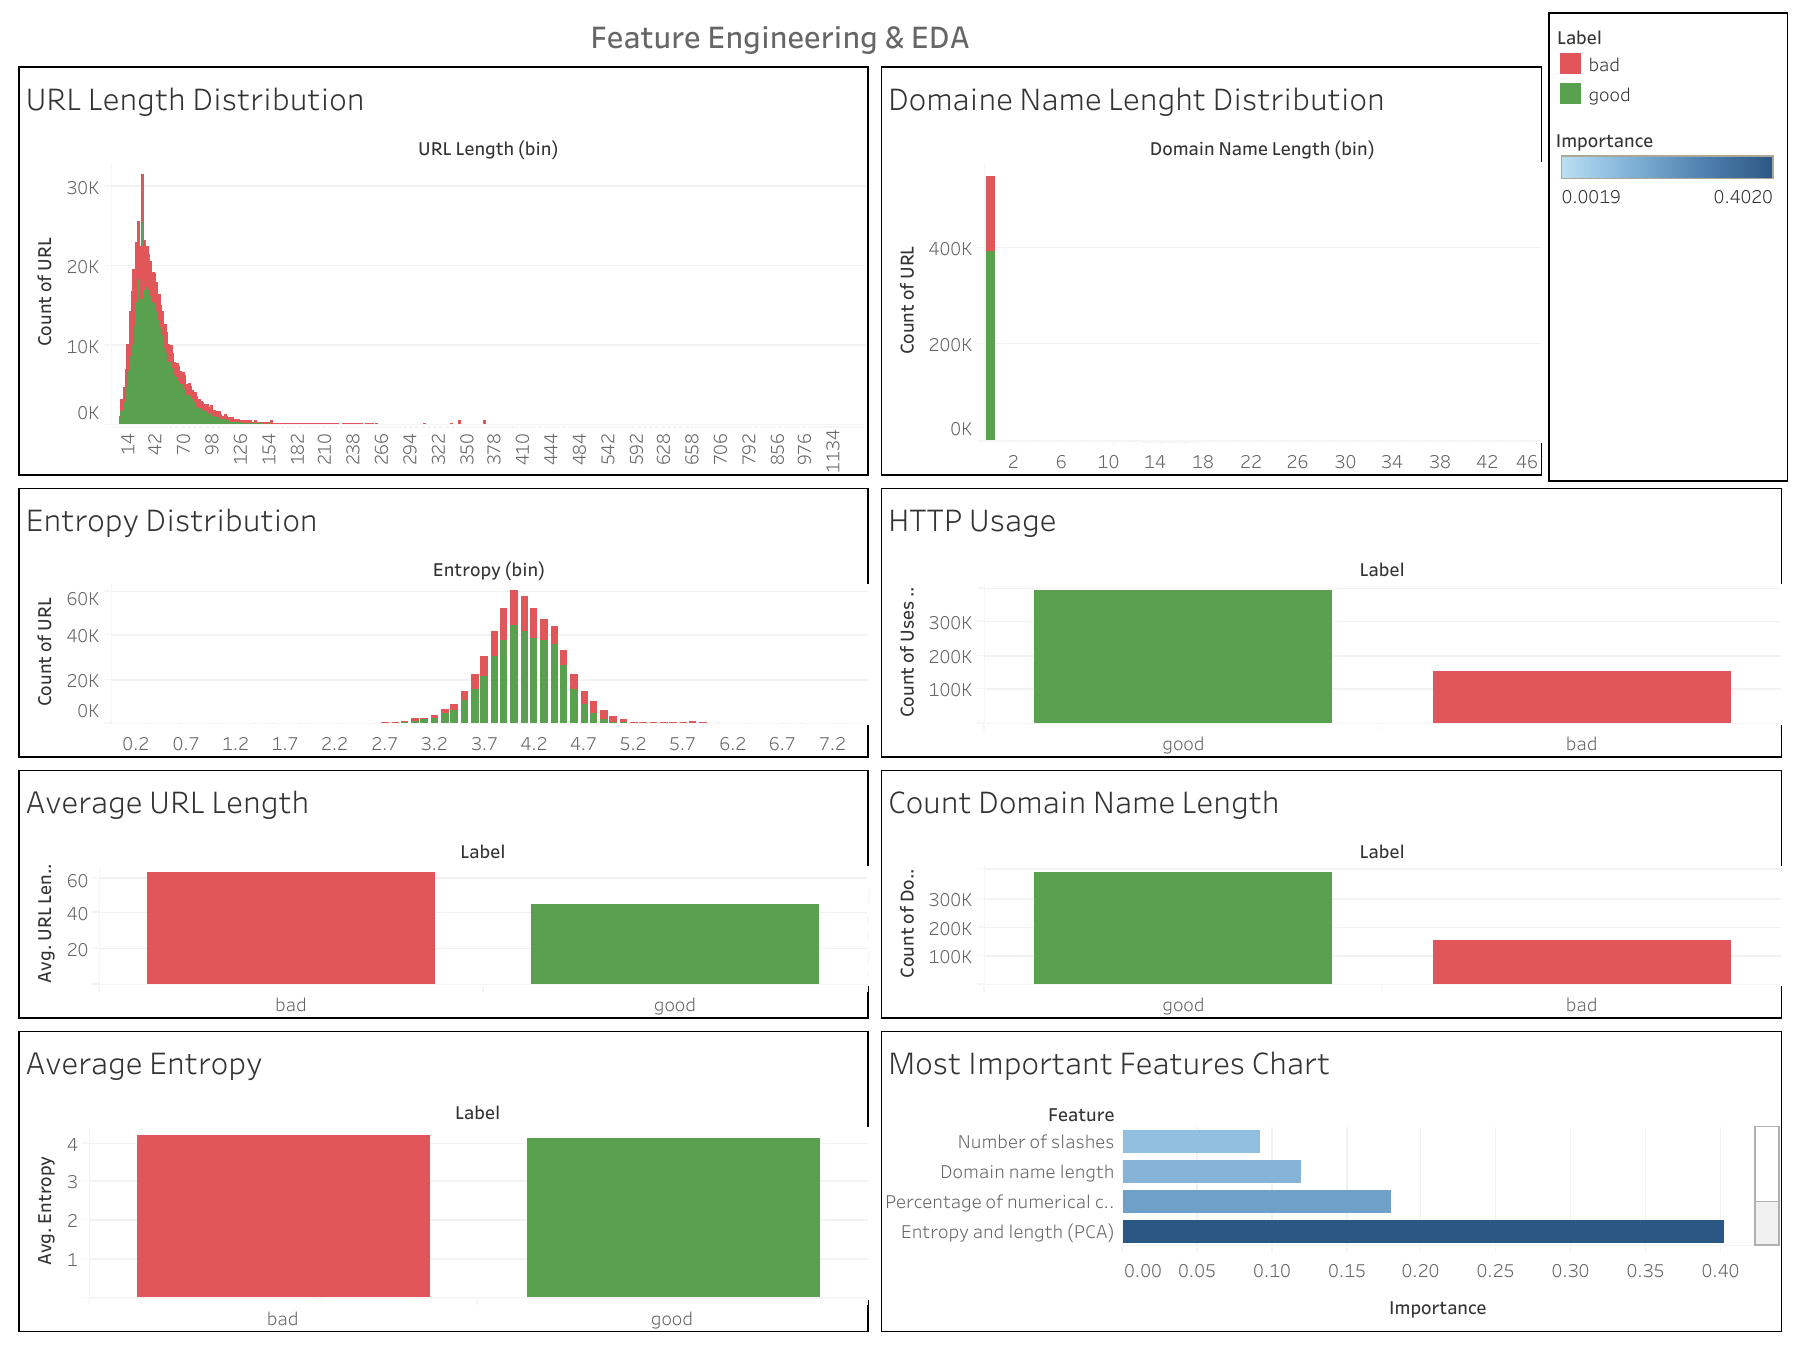

The dashboard page shown, as its layout file describes it:
{"tool":"tableau","page":{"name":"Feature Engineering & EDA","canvas":[1200,900],"ordinal":1},"visuals":[{"type":"text","box":[8,8,1047,43.7]},{"type":"legend","title":"URL Length Distribution","param":"[federated.12g3wrm1lapyf41g95bbh0pjx5ai].[none:Label:nk]","box":[1056,9,135,66]},{"type":"worksheet","title":"URL Length Distribution","mark":"Automatic","rows":["URL"],"cols":["URL Length (bin)"],"box":[8,51.7,650,248.3]},{"type":"worksheet","title":"Domaine Name Lenght Distribution ","mark":"Automatic","rows":["URL"],"cols":["Domain Name Length (bin)"],"box":[658,51.7,397,248.3]},{"type":"legend","title":"Most Important Features Chart","param":"[federated.0y76hio18hpudi12r0sss1whgzl0].[sum:Importance:qk]","box":[1056,75,135,65]},{"type":"worksheet","title":"Entropy Distribution","mark":"Automatic","rows":["URL"],"cols":["Entropy (bin)"],"box":[8,300,650,190]},{"type":"worksheet","title":"HTTP Usage","mark":"Automatic","rows":["Uses HTTPS"],"cols":["Label"],"box":[658,300,534,190]},{"type":"worksheet","title":"Average URL Length","mark":"Automatic","rows":["URL Length"],"cols":["Label"],"box":[8,490,650,193]},{"type":"worksheet","title":"Count Domain Name Length","mark":"Automatic","rows":["Domain Name Length"],"cols":["Label"],"box":[658,490,534,193]},{"type":"worksheet","title":"Average Entropy","mark":"Automatic","rows":["Entropy"],"cols":["Label"],"box":[8,683,650,209]},{"type":"worksheet","title":"Most Important Features Chart","mark":"Automatic","rows":["Feature"],"cols":["Importance"],"box":[658,683,534,209]}]}

Visuals, with their boxes in screenshot pixels (x1, y1, x2, y2), scaled from the page's 1200x900 canvas onto the 1799x1349 screenshot:
text: <region>12, 12, 1582, 77</region>
"URL Length Distribution" legend: <region>1583, 13, 1786, 112</region>
"URL Length Distribution" worksheet: <region>12, 77, 986, 450</region>
"Domaine Name Lenght Distribution " worksheet: <region>986, 77, 1582, 450</region>
"Most Important Features Chart" legend: <region>1583, 112, 1786, 210</region>
"Entropy Distribution" worksheet: <region>12, 450, 986, 734</region>
"HTTP Usage" worksheet: <region>986, 450, 1787, 734</region>
"Average URL Length" worksheet: <region>12, 734, 986, 1024</region>
"Count Domain Name Length" worksheet: <region>986, 734, 1787, 1024</region>
"Average Entropy" worksheet: <region>12, 1024, 986, 1337</region>
"Most Important Features Chart" worksheet: <region>986, 1024, 1787, 1337</region>
